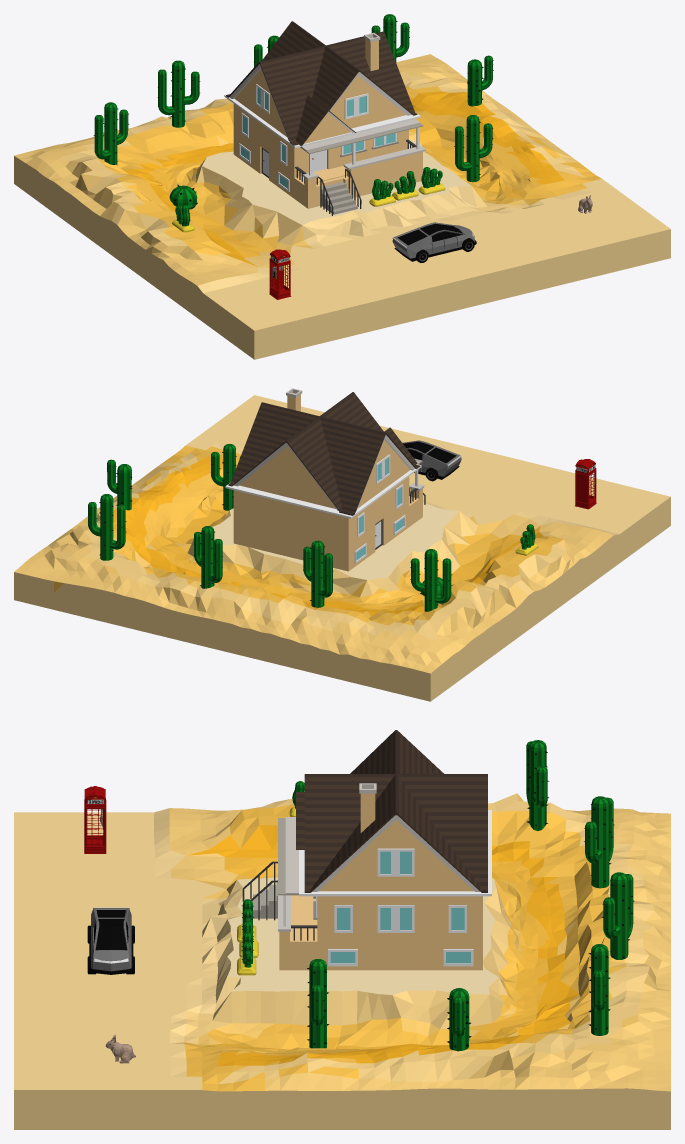
3 views of the same model, one above another, from view 1: azimuth 30°, elevation 25°; view 2: azimuth 150°, elevation 25°; view 3: azimuth 270°, elevation 25° (orthographic). The views are drawn at different scales.
Parts seen in each view (by area): view 1: Cube.001, Cube.235, VEHICLES_CYBERTRUCK, Cylinder.037, Cylinder.044, Cylinder.045, OBJRANDOM_PHONEBOOTH, Cylinder.038, Cylinder.042, Cylinder.039, Cylinder.041, Sphere.023 (+1 smaller); view 2: Cube.001, Cube.235, Cylinder.042, Cylinder.045, Cylinder.044, VEHICLES_CYBERTRUCK, Cylinder.043, Cylinder.037, OBJRANDOM_PHONEBOOTH, Cylinder.038; view 3: Cube.001, Cube.235, VEHICLES_CYBERTRUCK, Cylinder.043, Cylinder.044, Cylinder.045, Cylinder.042, Cylinder.037, OBJRANDOM_PHONEBOOTH, Cylinder.038, Cylinder.041.
Boxes of the visible parts, box(x1,y1,x2,y2) form: Cube.001: box(14, 54, 670, 359); Cube.235: box(224, 21, 425, 215); VEHICLES_CYBERTRUCK: box(392, 222, 476, 262); Cylinder.037: box(454, 115, 493, 182); Cylinder.044: box(157, 60, 200, 127); Cylinder.045: box(93, 102, 129, 164); OBJRANDOM_PHONEBOOTH: box(269, 249, 291, 299); Cylinder.038: box(467, 55, 493, 106); Cylinder.042: box(371, 14, 409, 62); Cylinder.039: box(369, 179, 395, 206); Cylinder.041: box(418, 167, 445, 194); Sphere.023: box(169, 184, 197, 209); Cube.001: box(14, 395, 670, 701); Cube.235: box(225, 388, 425, 571); Cylinder.042: box(88, 494, 126, 560); Cylinder.045: box(410, 549, 452, 611); Cylinder.044: box(303, 540, 333, 607); VEHICLES_CYBERTRUCK: box(402, 440, 461, 481); Cylinder.043: box(193, 526, 222, 588); Cylinder.037: box(211, 444, 240, 510); OBJRANDOM_PHONEBOOTH: box(575, 459, 596, 509); Cylinder.038: box(107, 459, 131, 510); Cube.001: box(14, 793, 670, 1129); Cube.235: box(242, 730, 491, 970); VEHICLES_CYBERTRUCK: box(87, 907, 134, 974); Cylinder.043: box(602, 872, 634, 959); Cylinder.044: box(584, 796, 614, 888); Cylinder.045: box(526, 740, 549, 830); Cylinder.042: box(588, 944, 610, 1035); Cylinder.037: box(307, 959, 329, 1048); OBJRANDOM_PHONEBOOTH: box(84, 786, 106, 853); Cylinder.038: box(447, 988, 471, 1051); Cylinder.041: box(237, 932, 256, 975).
Bounding box in the file's own units: 4002 × 1627 × 4001.
39 materials, 2 textured.
